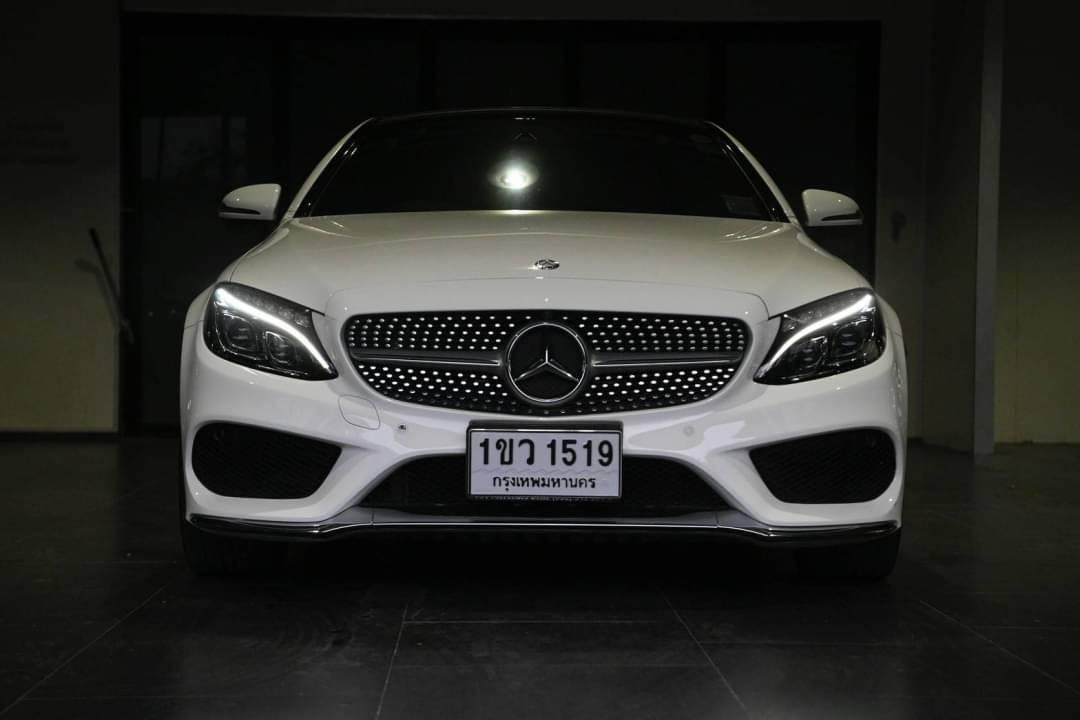license-plate: (467, 419, 625, 500)
